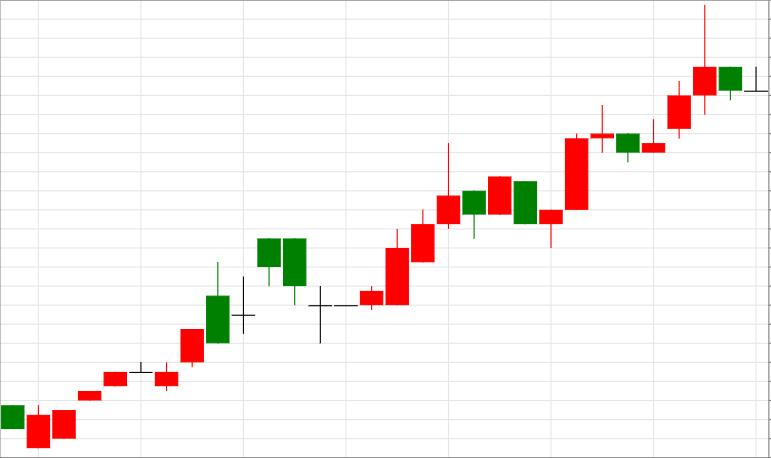shooting_star_fall: (539, 5, 716, 249), (309, 144, 460, 344)
